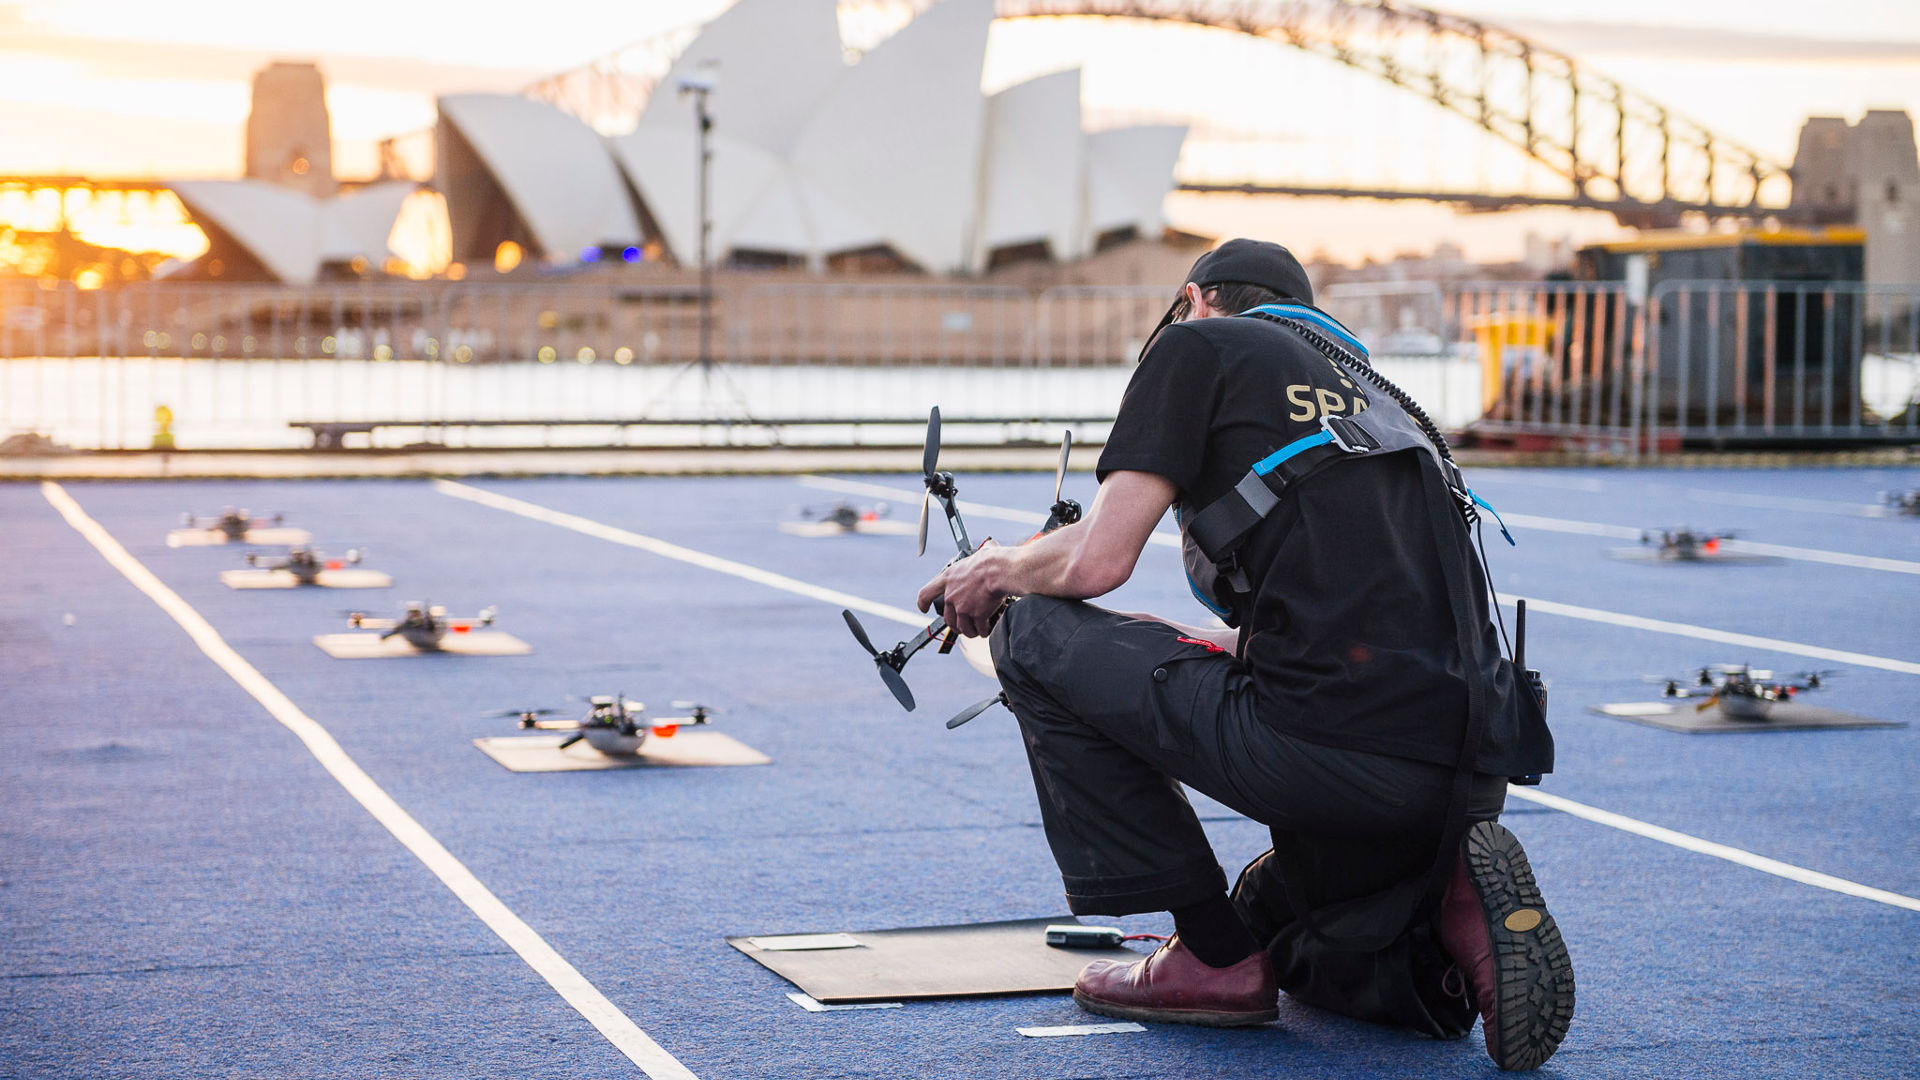drone: (848, 405, 1099, 735), (484, 692, 740, 766), (1618, 655, 1857, 734), (330, 601, 511, 661), (1596, 515, 1773, 575), (237, 540, 383, 595), (168, 498, 299, 548), (1838, 476, 1920, 538), (795, 490, 897, 537)
person: (914, 236, 1581, 1080)
